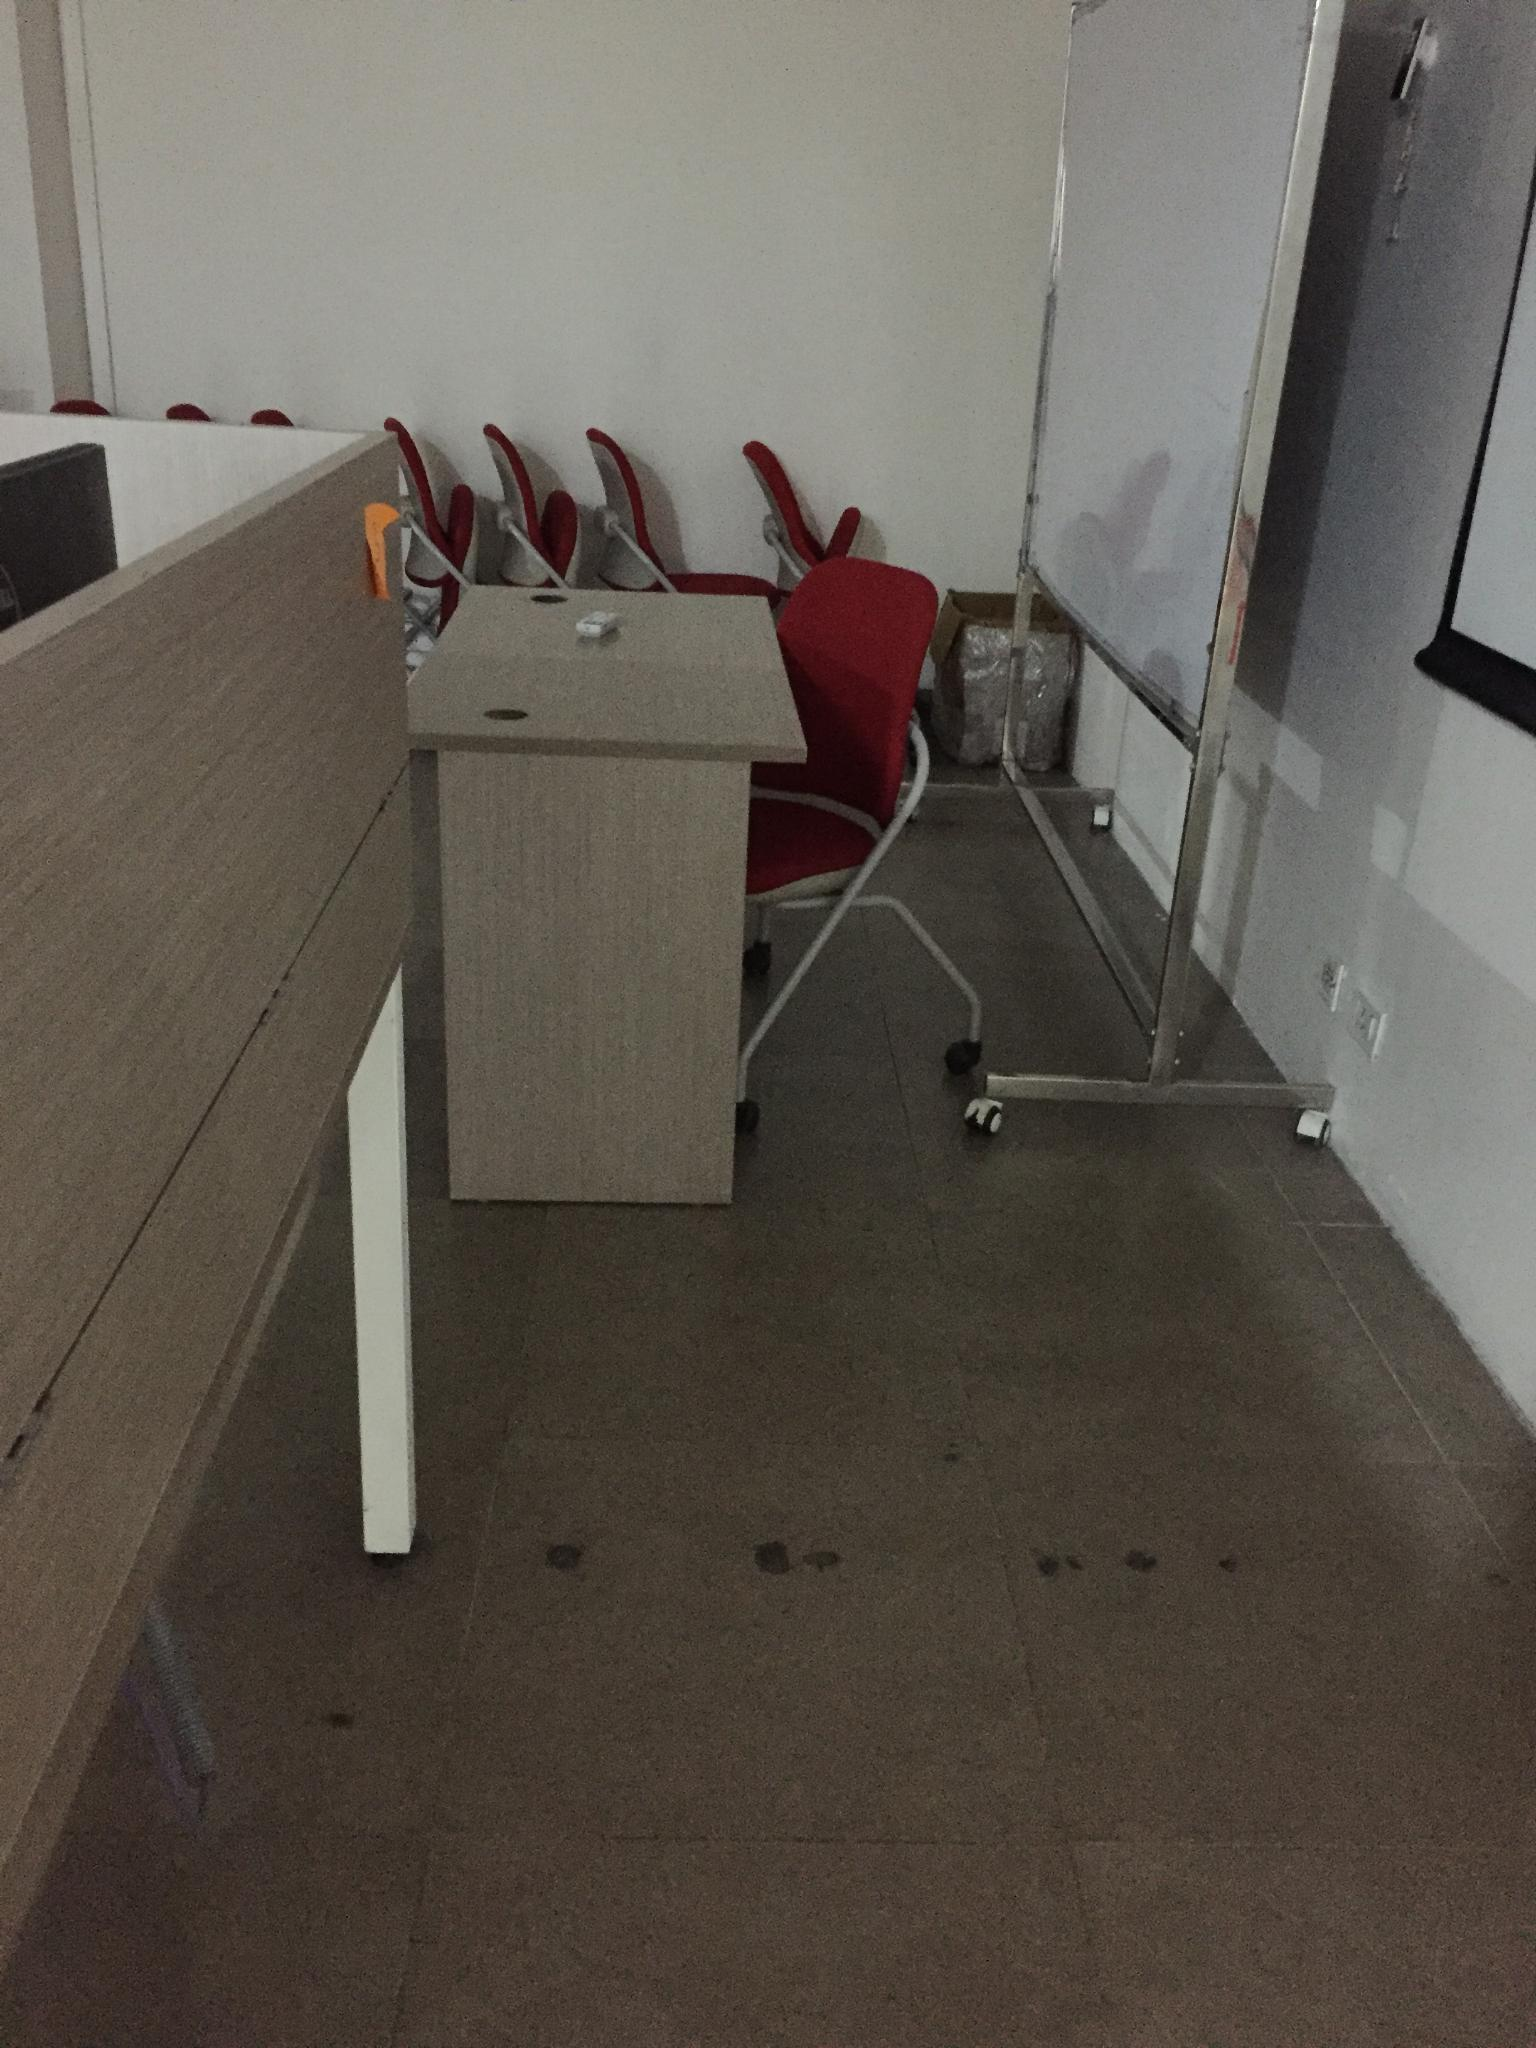chair: (736, 555, 984, 1132), (586, 426, 786, 618), (478, 418, 573, 639), (742, 439, 860, 577), (399, 398, 450, 637)
